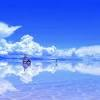sky: (1, 2, 100, 81)
